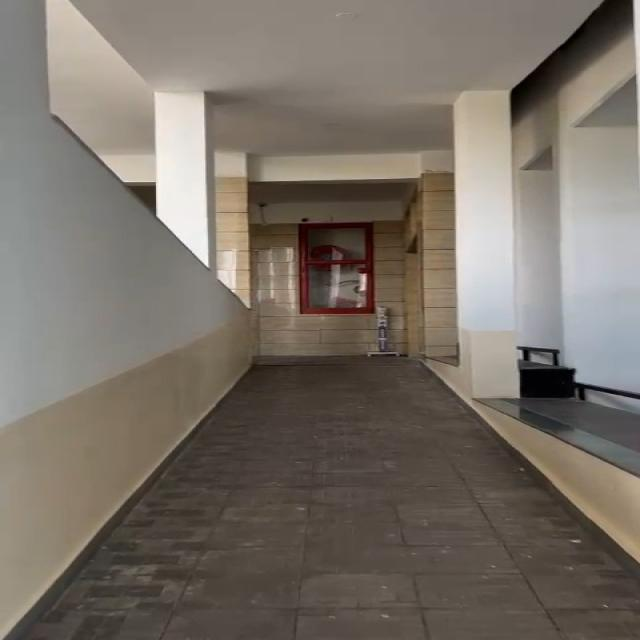floor: (136, 463, 592, 640), (243, 361, 441, 476)
wall: (0, 0, 236, 439), (443, 91, 640, 440)
